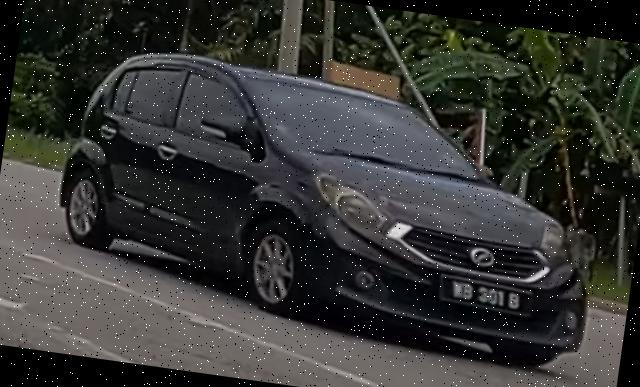License_Plate: (436, 272, 536, 318)
car: (44, 37, 615, 374)
